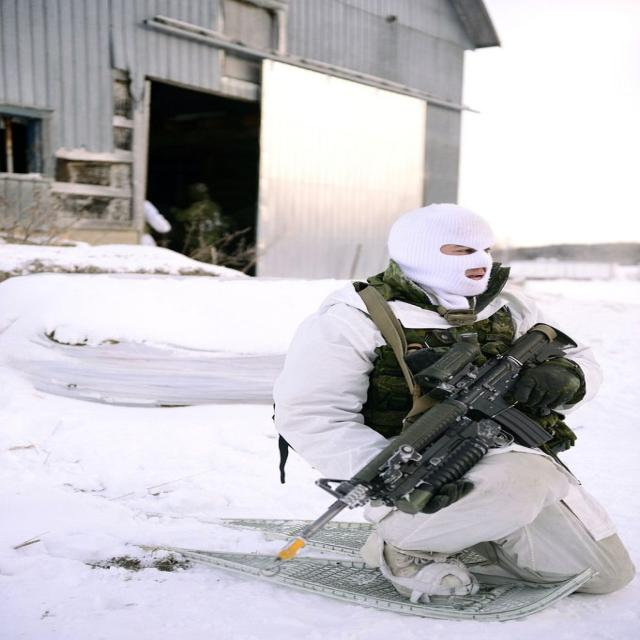Human: (278, 201, 636, 607)
